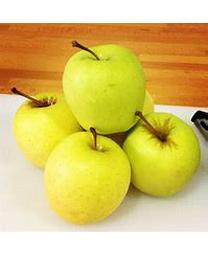apple: (43, 129, 131, 224), (61, 40, 145, 135), (122, 111, 200, 197), (12, 91, 82, 169)
